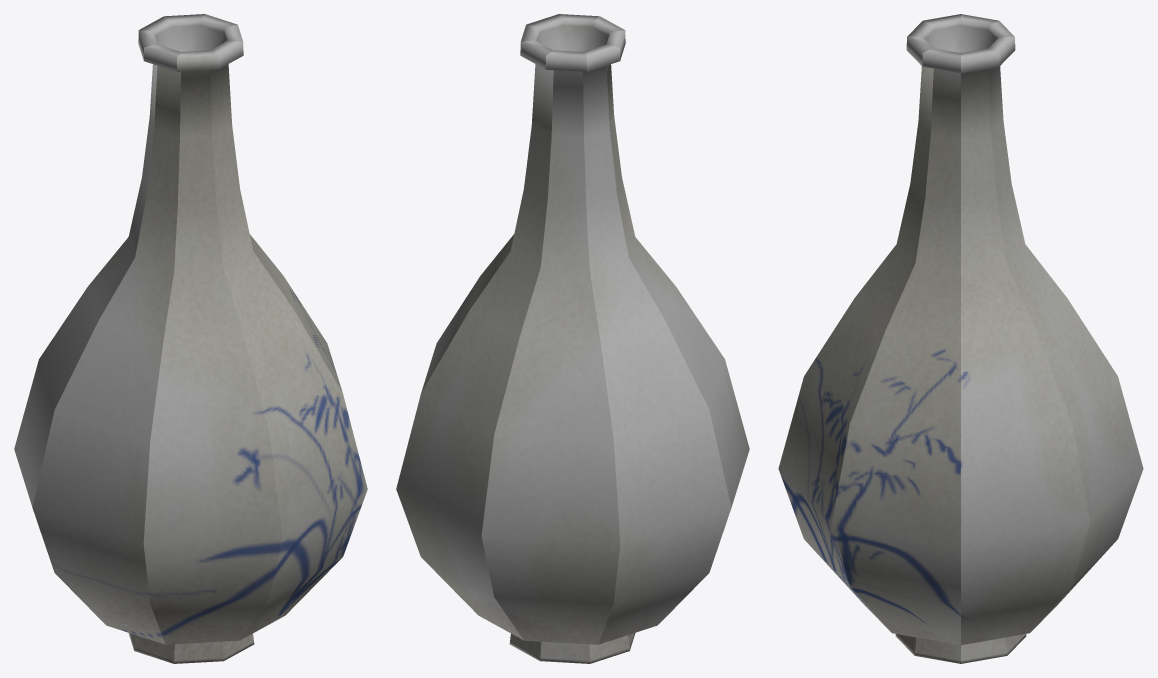
File: ceramic03.fbx
3 views of the same model, side by side, from view 1: azimuth 30°, elevation 25°; view 2: azimuth 150°, elevation 25°; view 3: azimuth 270°, elevation 25° (orthographic).
Parts seen in each view (by area): view 1: ceramic03_low; view 2: ceramic03_low; view 3: ceramic03_low.
Boxes of the visible parts, left/top/right/bottom form: ceramic03_low: left=14, top=14, right=367, bottom=663; ceramic03_low: left=396, top=14, right=749, bottom=663; ceramic03_low: left=778, top=14, right=1143, bottom=663.
Bounding box in the file's own units: 22.06 × 39.97 × 22.06.
